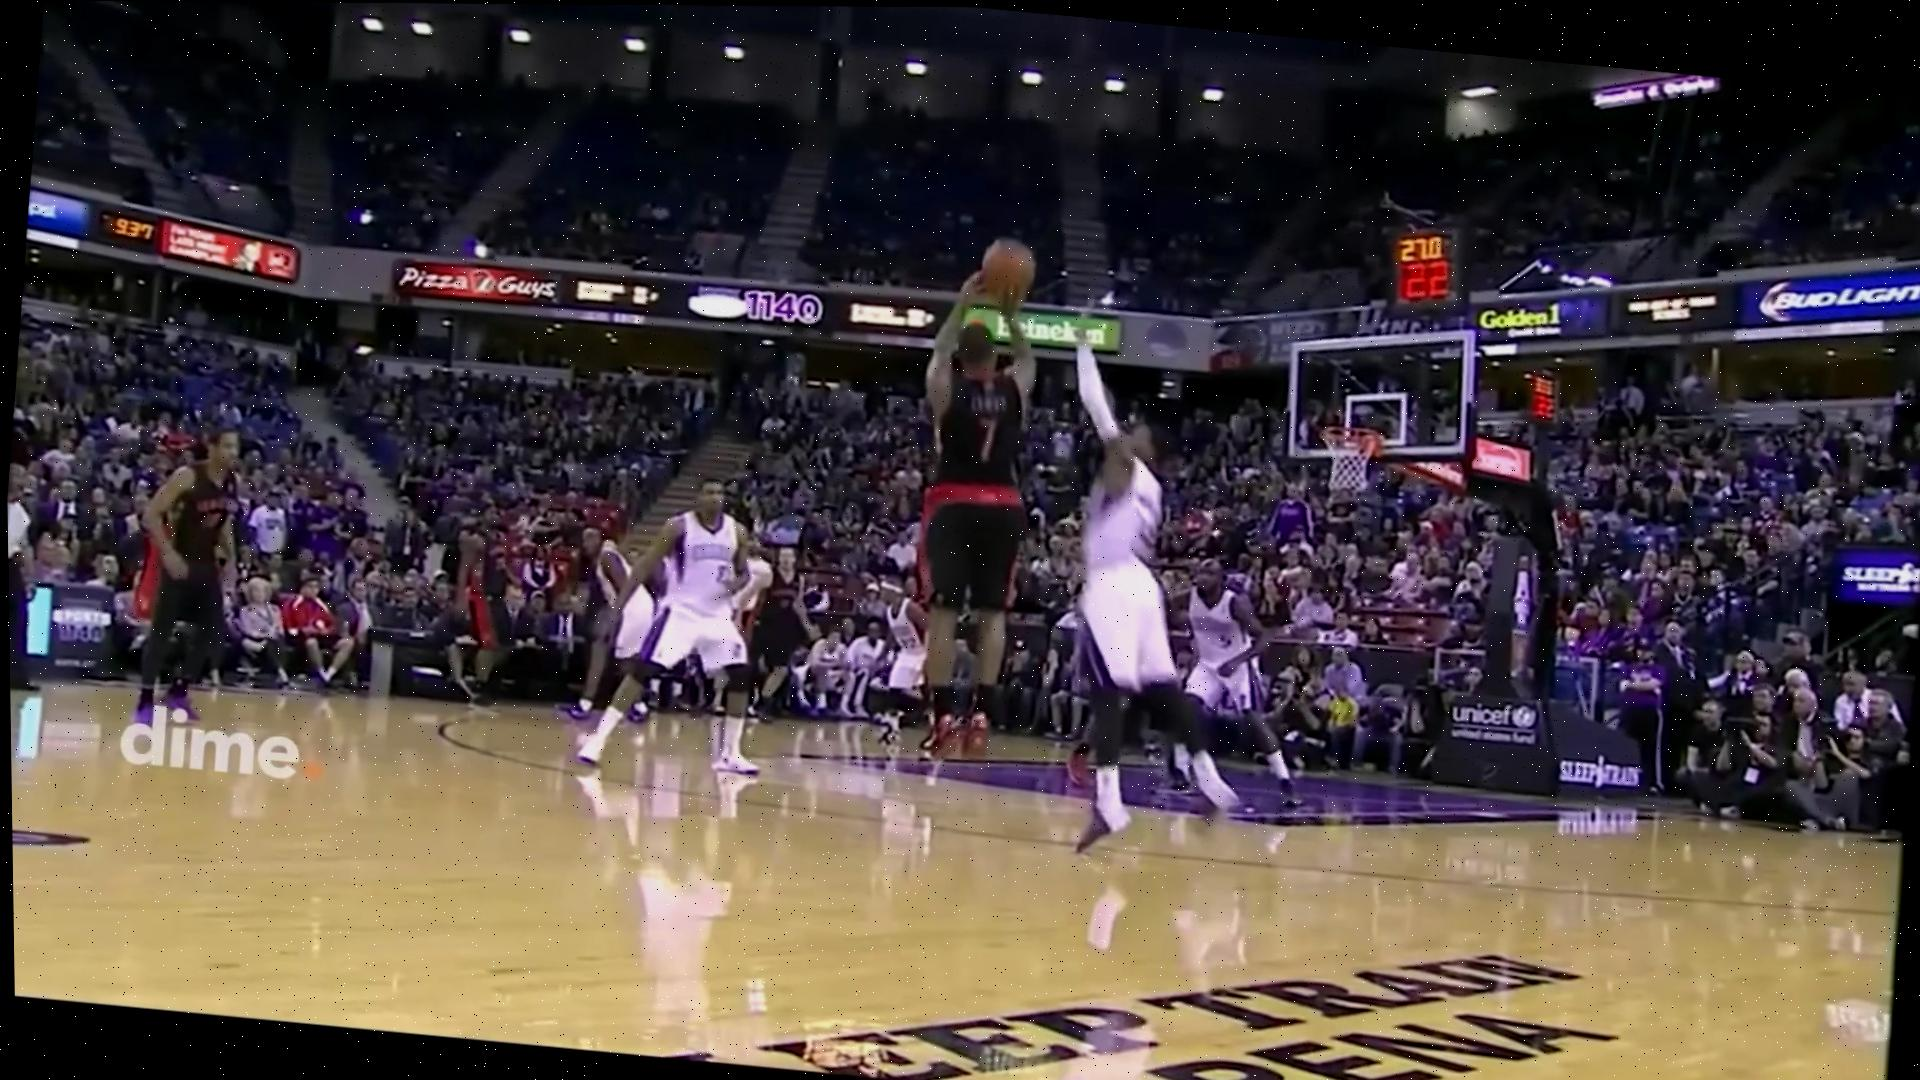no_foul: (866, 303, 1273, 895)
